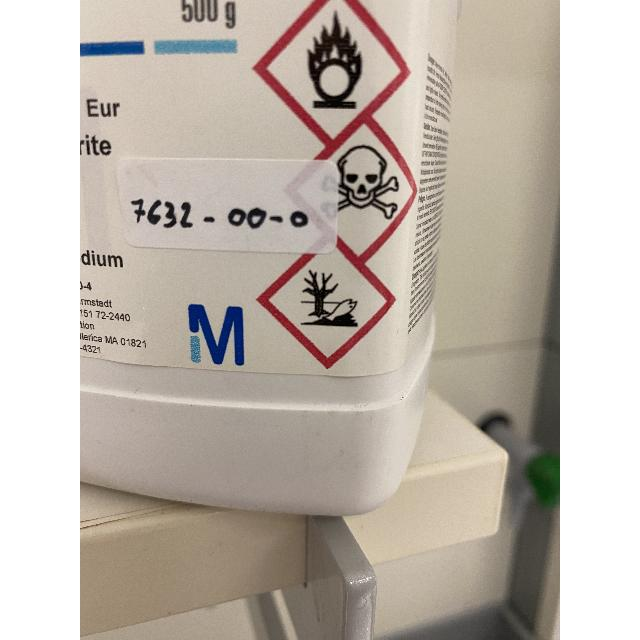acute toxicity: (320, 144, 400, 220)
hazardous to the environment: (300, 268, 360, 328)
oxidising: (306, 11, 364, 111)
